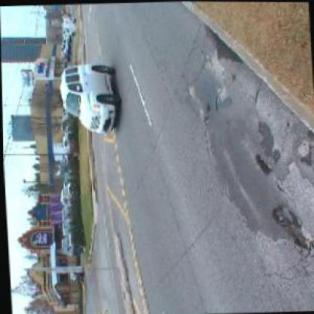Hueco: (268, 202, 313, 251), (250, 152, 270, 174), (200, 116, 212, 125), (202, 101, 211, 111)
